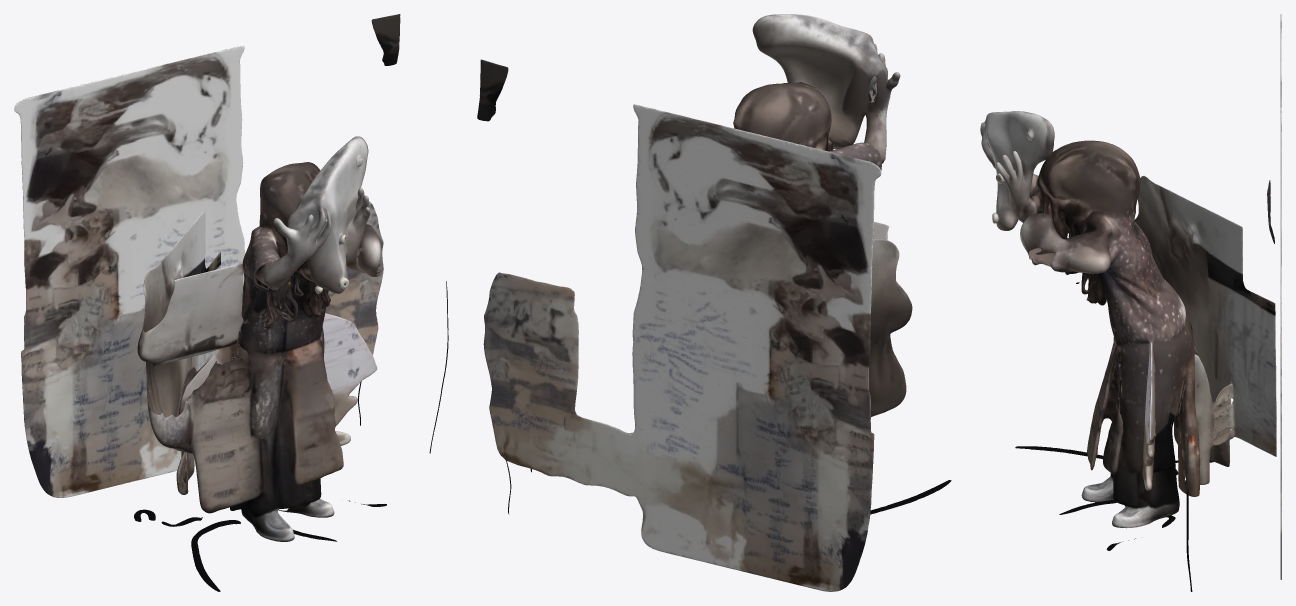
File: sample_2026-10-10T135403.697.glb
3 views of the same model, side by side, from view 1: azimuth 30°, elevation 25°; view 2: azimuth 150°, elevation 25°; view 3: azimuth 270°, elevation 25° (orthographic). The views are drawn at different scales.
Visible parts, largest first — view 1: world; view 2: world; view 3: world.
Boxes of the visible parts, <box> form: world: <box>14,14,448,591</box>; world: <box>477,14,951,591</box>; world: <box>980,14,1281,591</box>.
Size of the model in its own units: 0.9901 by 1 by 0.678.
1 material, 1 textured.
